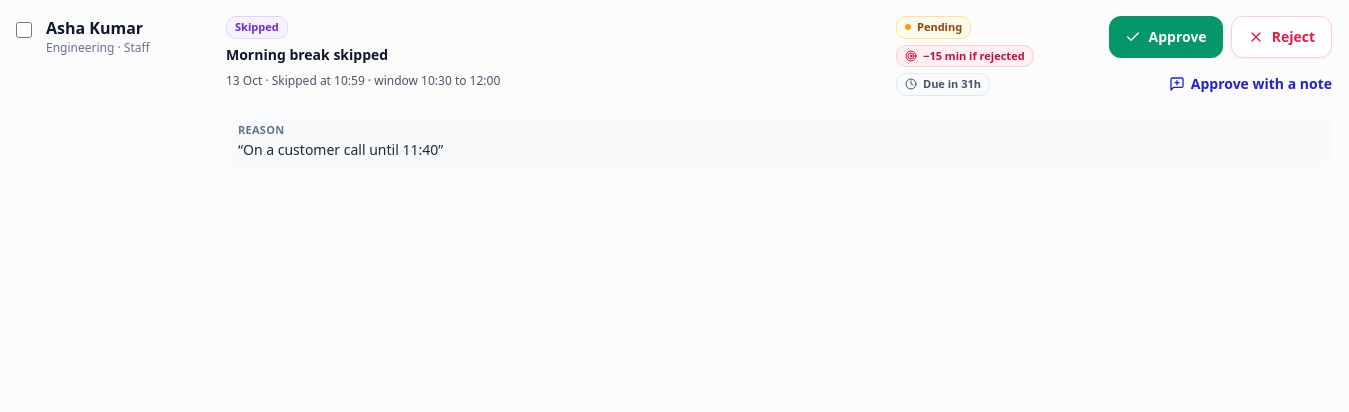
ApprovalCard › shows the server's reason when it still wants a note
This screenshot has width=1349, height=412.
Click the button with aria-label "Reject Asha Kumar" at point(1281, 37), box [1231,16,1332,58]
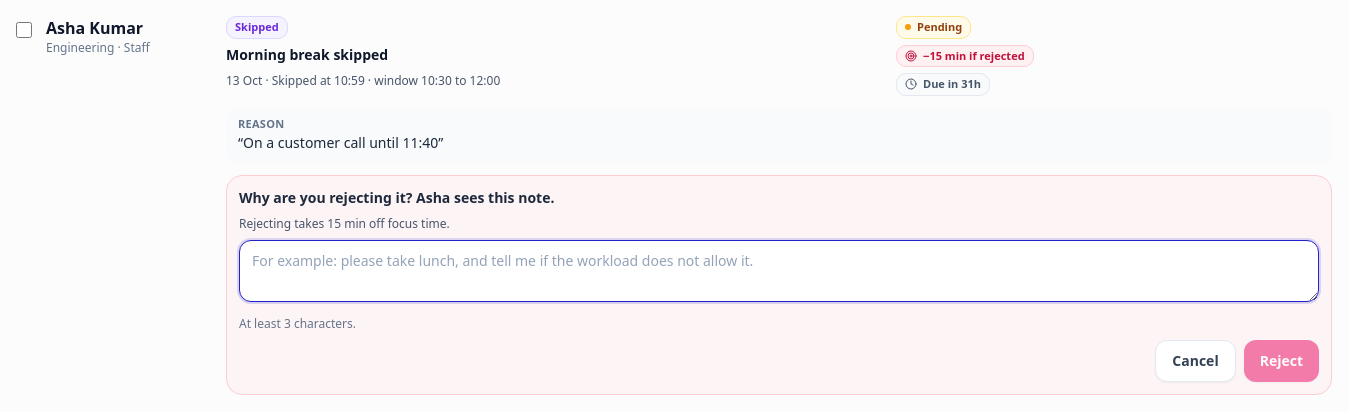
Type "   no" into the text box at point(779, 271), box [239,240,1319,302]
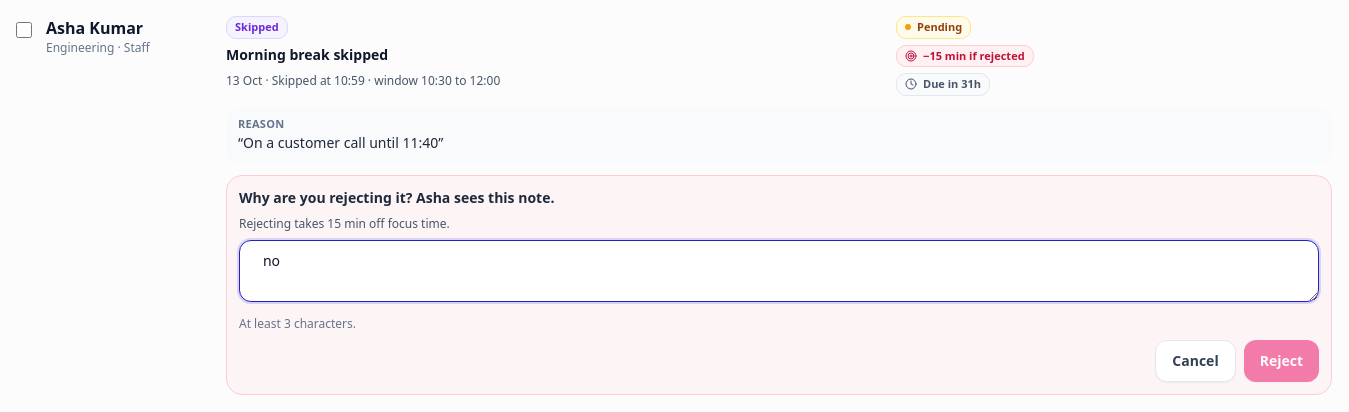
Type "pe" into the text box at point(779, 271), box [239,240,1319,302]
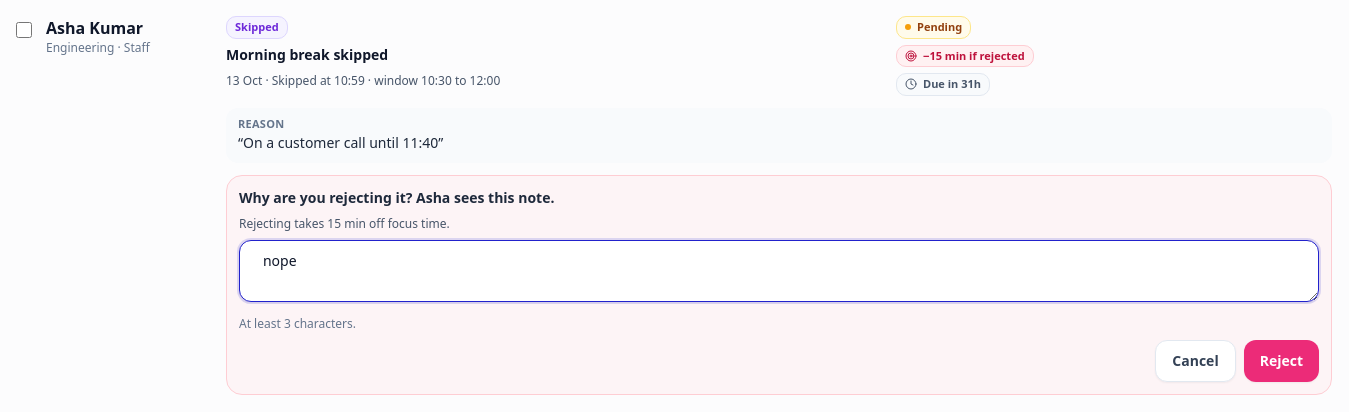
Click the button "Reject" at point(1281, 361), box [1244,340,1319,382]
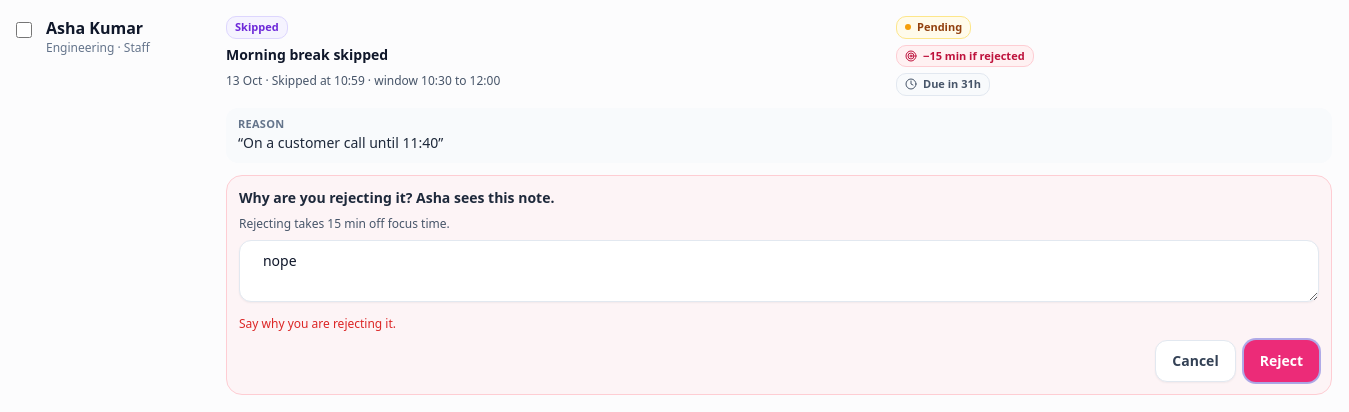
Result: the text "Say why you are rejecting it." is shown at [239,315,396,332]
